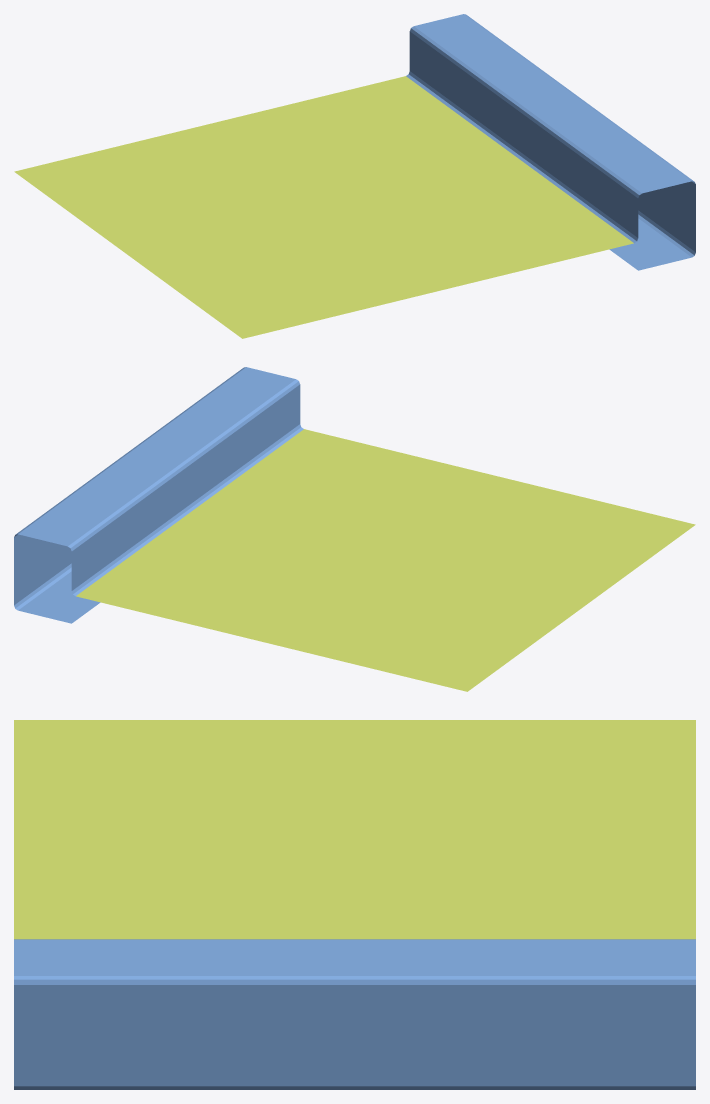
Rendered from Roof_1_Standard.fbx.
3 renders of one model, top to bottom at view 1: azimuth 30°, elevation 25°; view 2: azimuth 150°, elevation 25°; view 3: azimuth 270°, elevation 25°, orthographic. The views are drawn at different scales.
Parts seen in each view (by area): view 1: Roof_1_Standard; view 2: Roof_1_Standard; view 3: Roof_1_Standard.
Boxes of the visible parts, x1,y1,x2,y2 form: Roof_1_Standard: (14, 14, 695, 338); Roof_1_Standard: (14, 367, 695, 691); Roof_1_Standard: (14, 720, 695, 1089).
Size of the model in its own units: 229 by 36.85 by 200.
